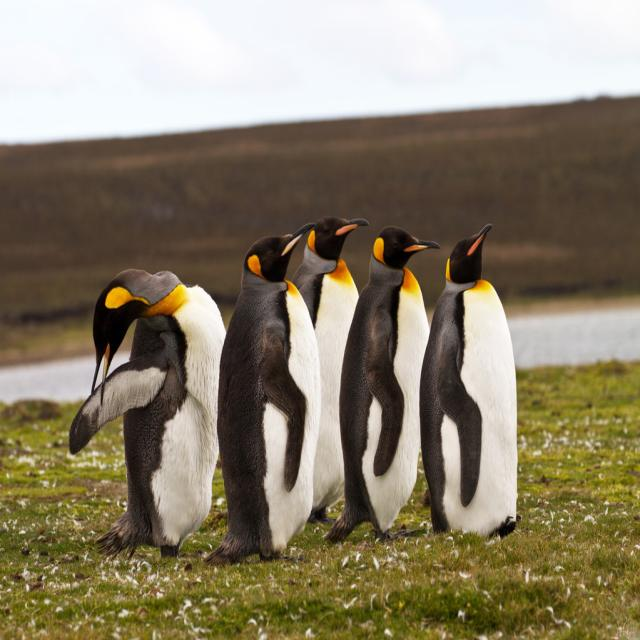Penguins: (84, 258, 218, 564), (218, 208, 316, 580), (423, 219, 524, 550), (346, 217, 444, 548), (296, 200, 365, 539)
